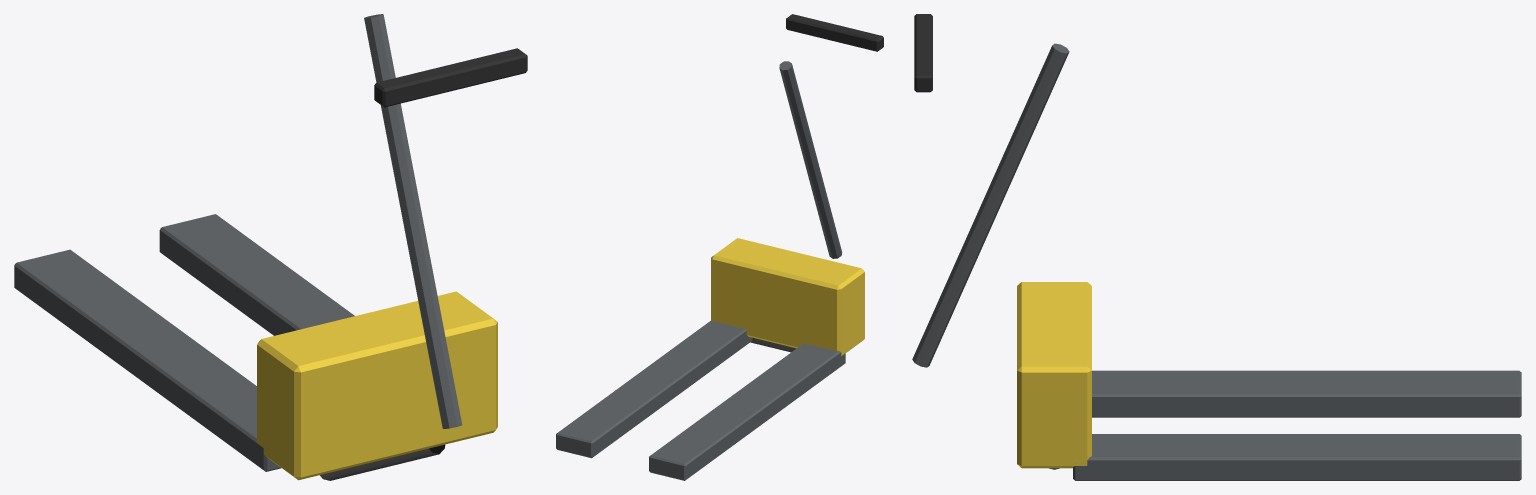
Rendered from pallet_jack.glb.
3 renders of one model, left to right at view 1: azimuth 30°, elevation 25°; view 2: azimuth 150°, elevation 25°; view 3: azimuth 270°, elevation 25°, orthographic. The views are drawn at different scales.
Parts seen in each view (by area): view 1: pallet_jack; view 2: pallet_jack; view 3: pallet_jack.
Boxes of the visible parts, x1,y1,x2,y2 form: pallet_jack: [14, 14, 527, 480]; pallet_jack: [556, 14, 883, 480]; pallet_jack: [912, 14, 1521, 480].
Bounding box in the file's own units: 0.56 × 1.18 × 1.63.
